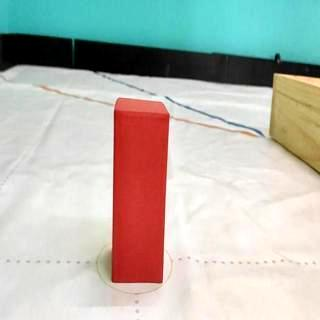redbox: (114, 98, 168, 282)
